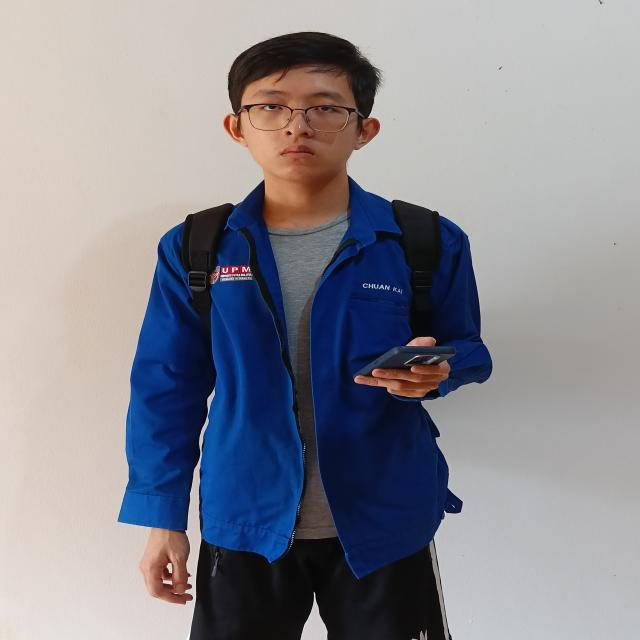person_with_labcoat: (119, 32, 491, 640)
